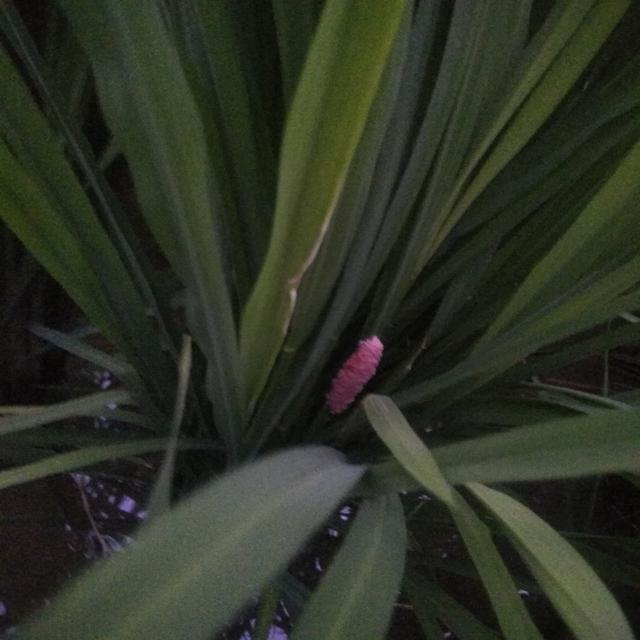Leaf blast: (318, 314, 400, 437)
